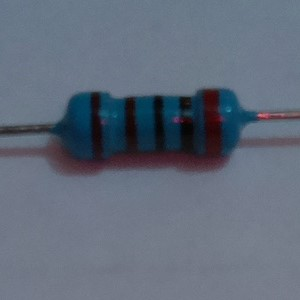black_band: (176, 93, 196, 155), (150, 93, 168, 152)
brown_band: (87, 89, 107, 160), (121, 94, 141, 155)
red_band: (201, 85, 224, 158)
